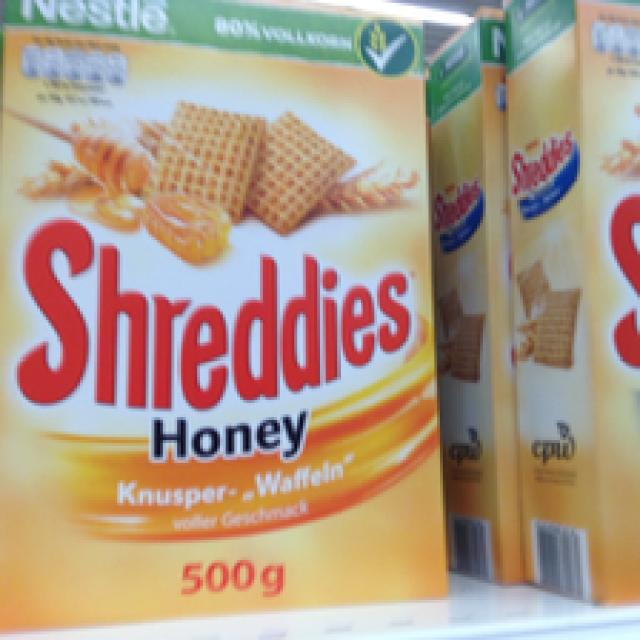groceries: (0, 3, 443, 623)
